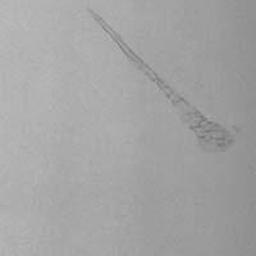Water spot: (87, 9, 241, 155)
